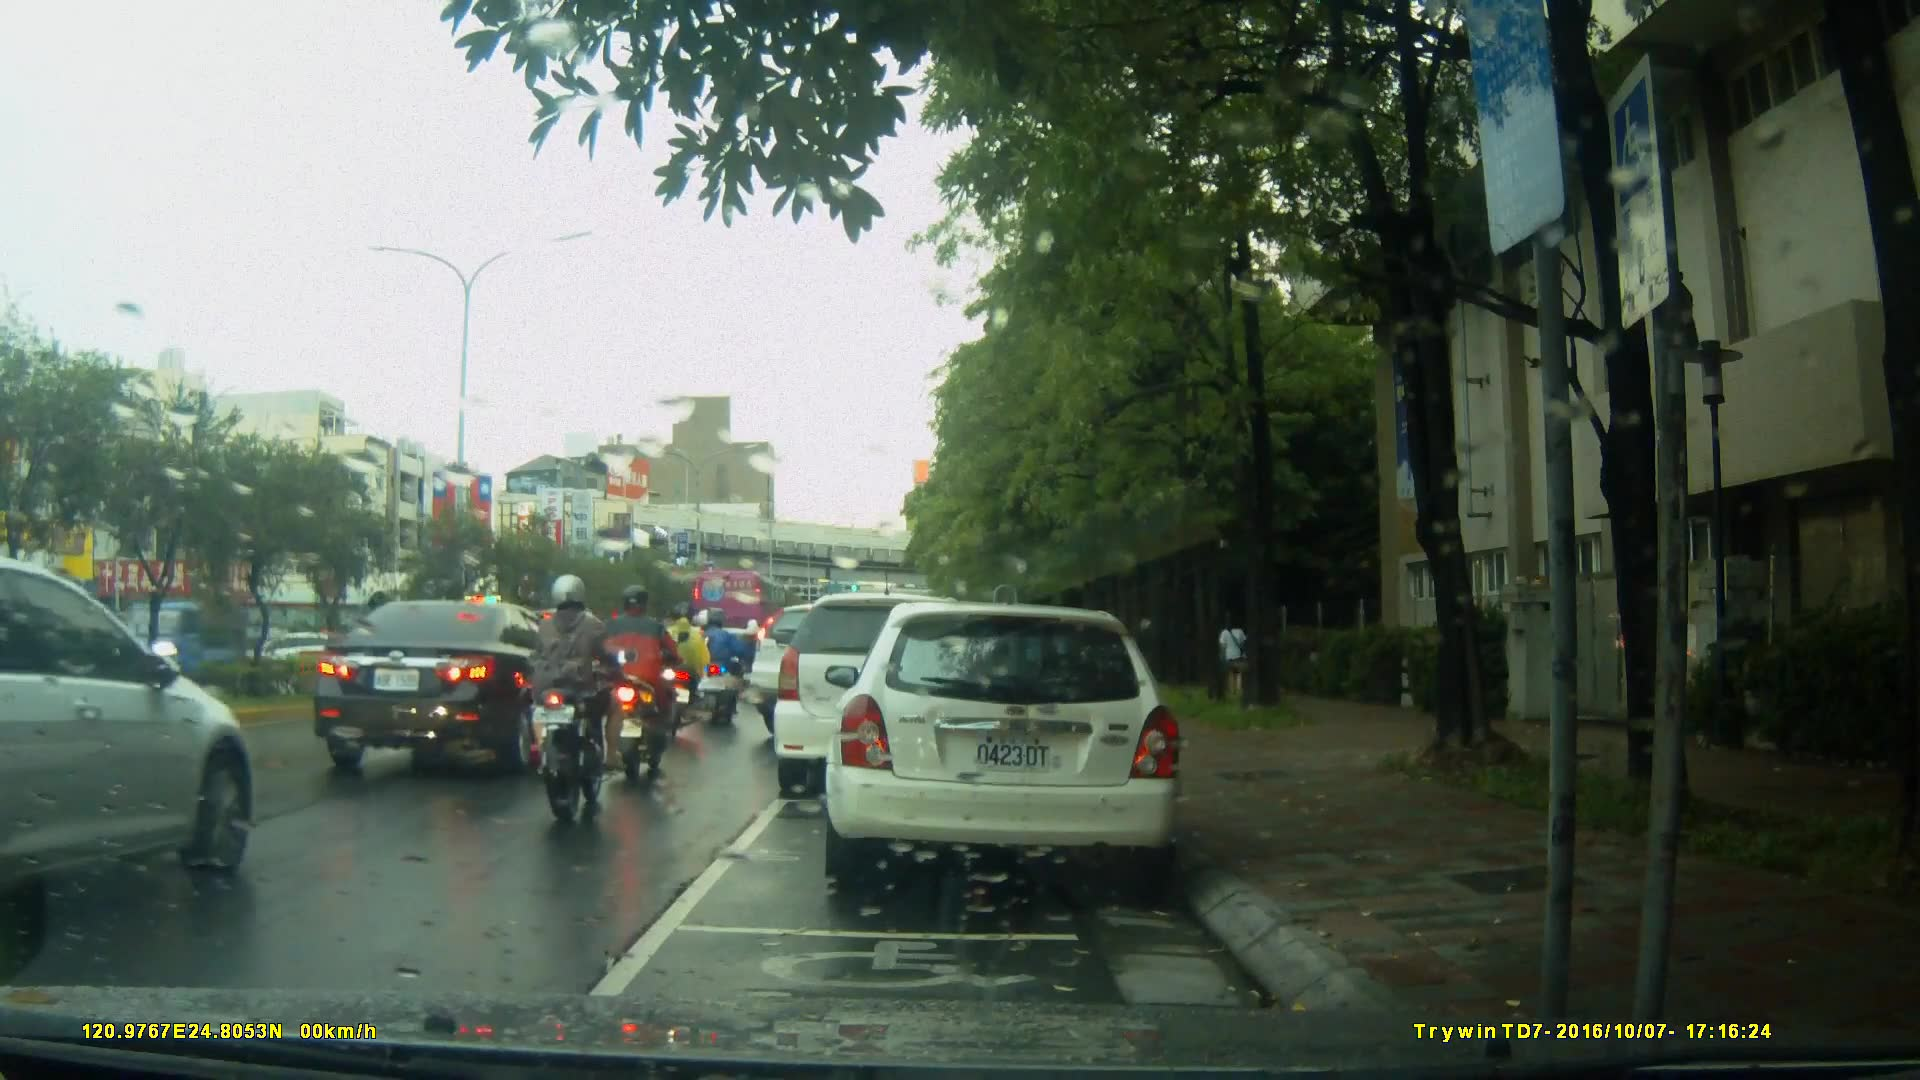pedestrian: (1215, 612, 1256, 708)
rider: (531, 577, 623, 839), (597, 578, 696, 777), (701, 604, 749, 728), (663, 602, 709, 728)
vehicle: (835, 594, 1194, 898), (2, 553, 260, 947), (308, 598, 609, 780), (776, 590, 1026, 784), (747, 601, 985, 742), (689, 569, 788, 646)
